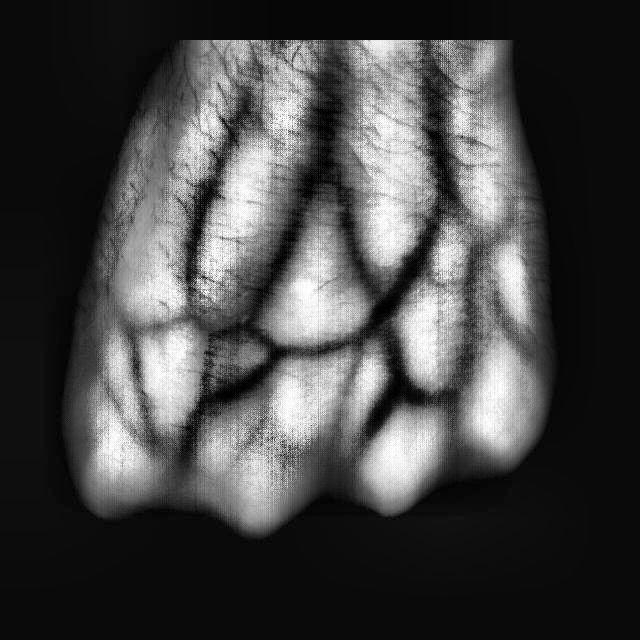Vein: (245, 120, 345, 314), (407, 40, 459, 186)
